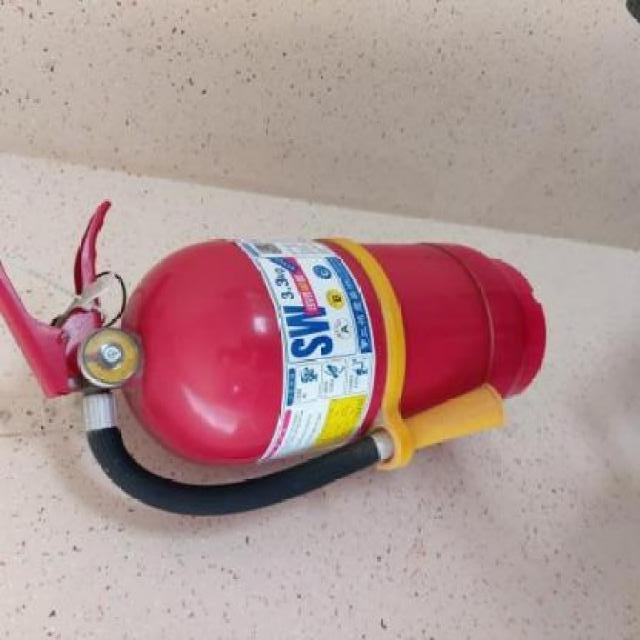fire extinguisher: (0, 199, 548, 518)
